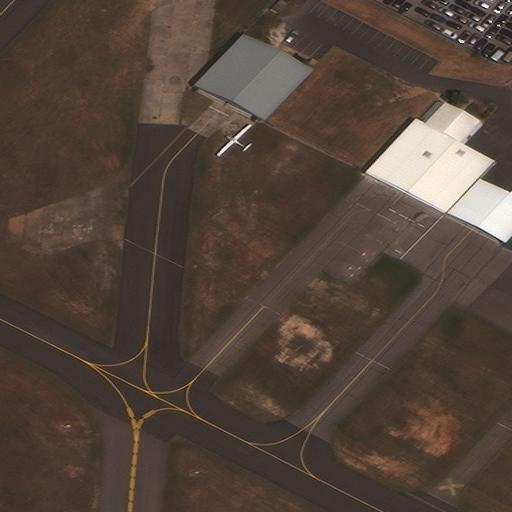Small Civil Transport: (215, 123, 249, 155)
